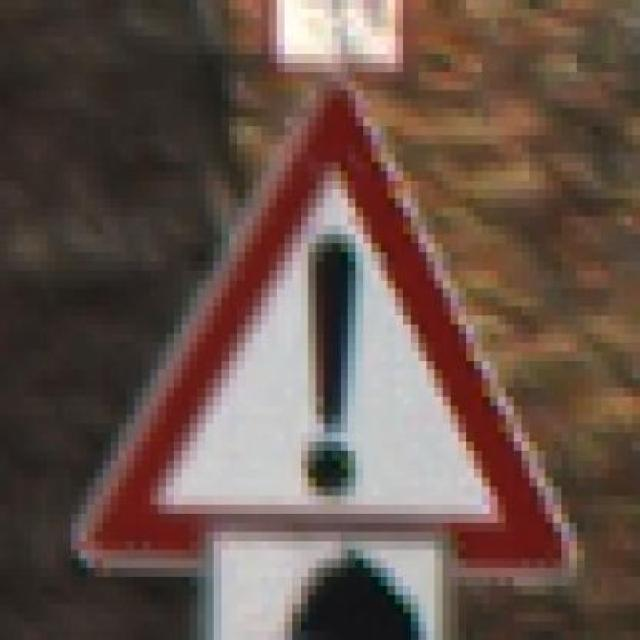Attention Please-: (47, 80, 601, 594)
